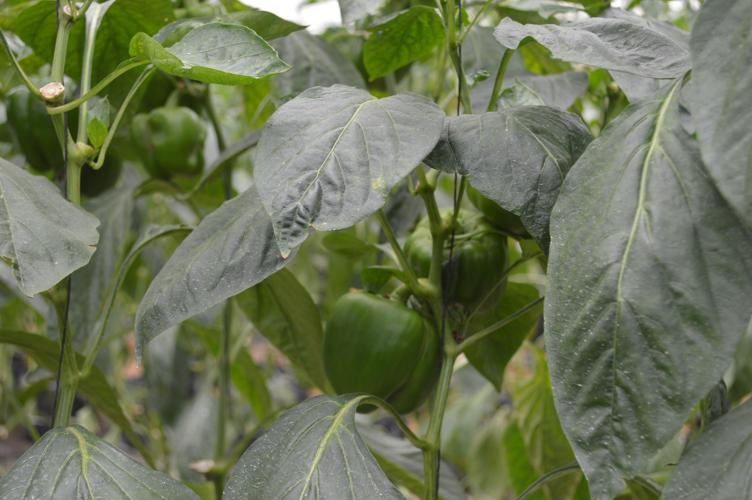BellPepper: (320, 294, 437, 411), (407, 214, 501, 307), (9, 82, 66, 174), (133, 104, 201, 179)
